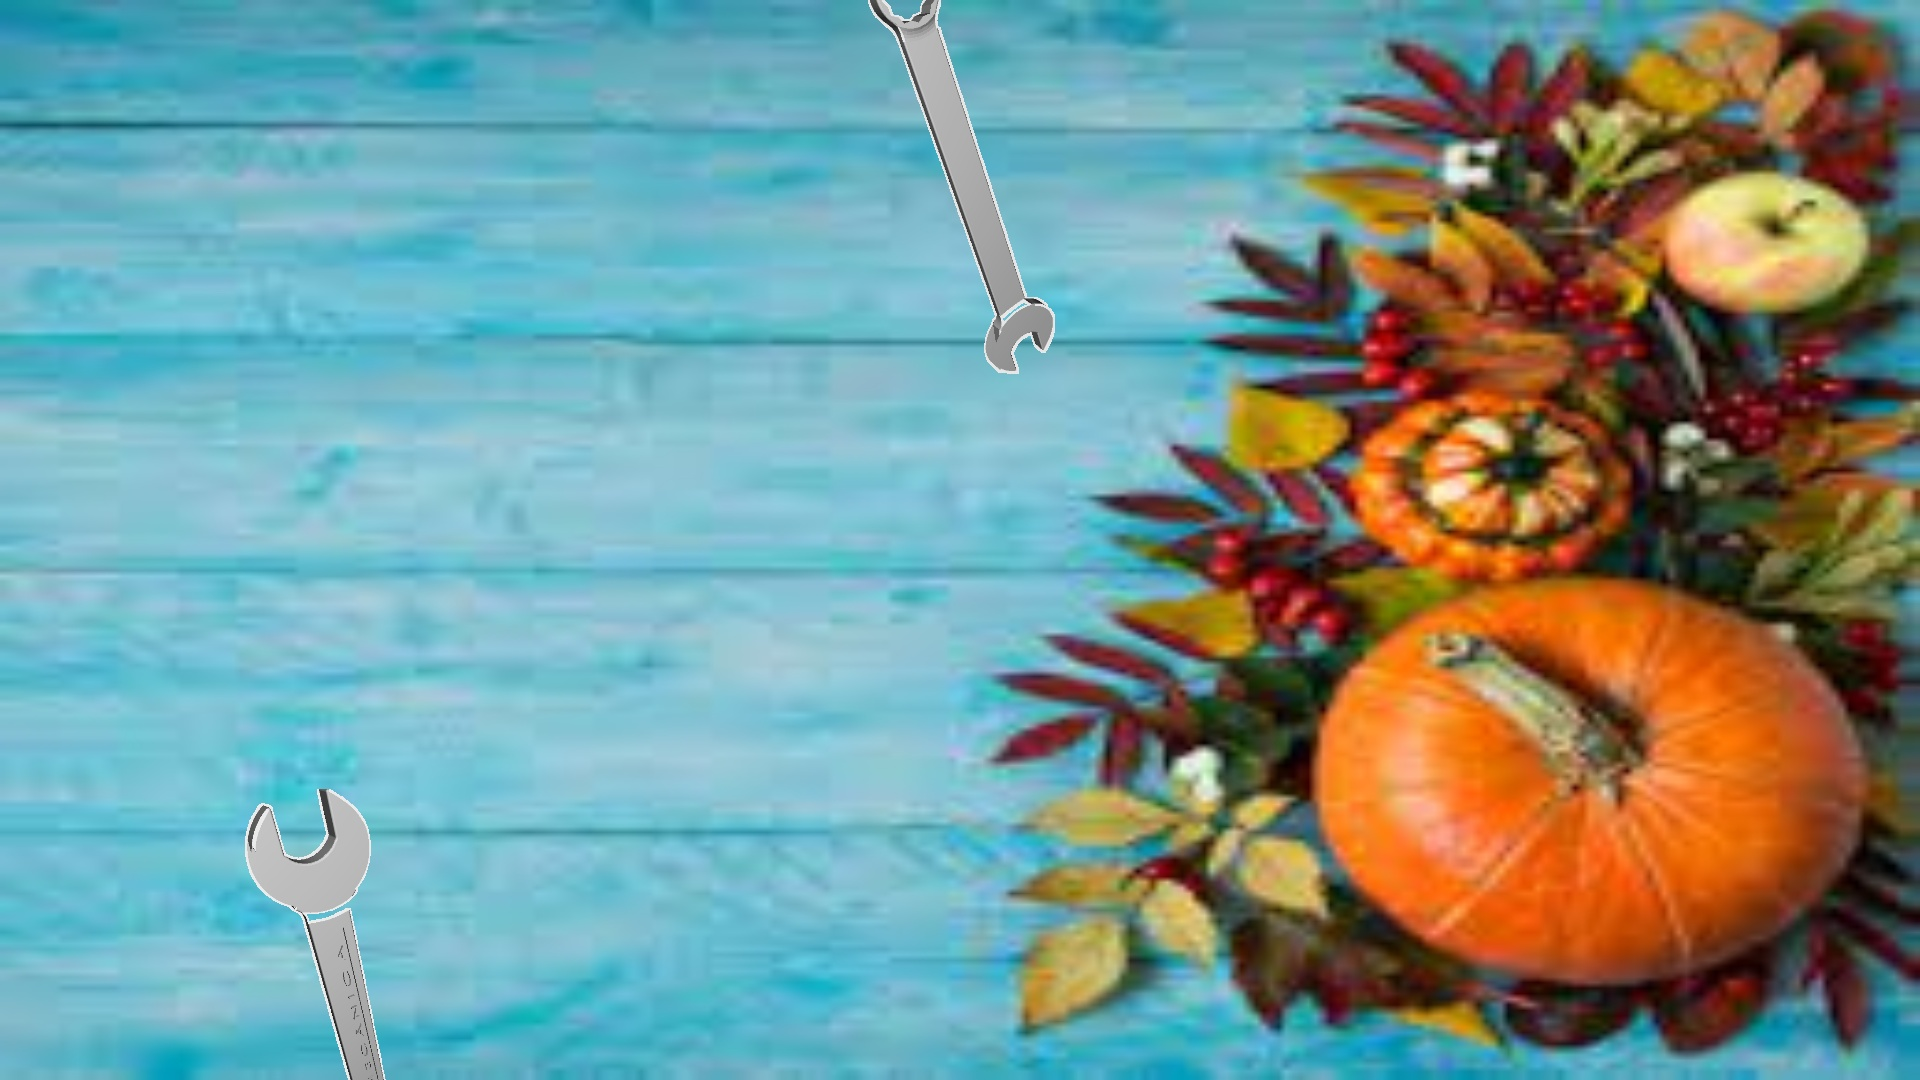Mixed Key: (868, 0, 1054, 373), (245, 789, 385, 1079)
